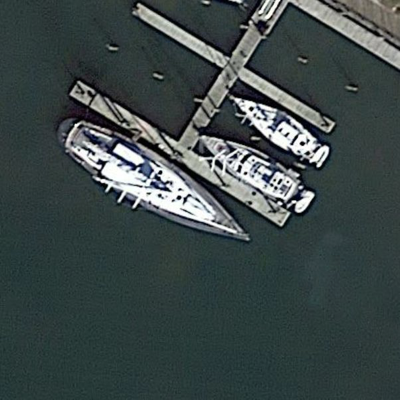boat: (52, 119, 250, 244), (197, 133, 313, 216), (226, 90, 332, 170)
